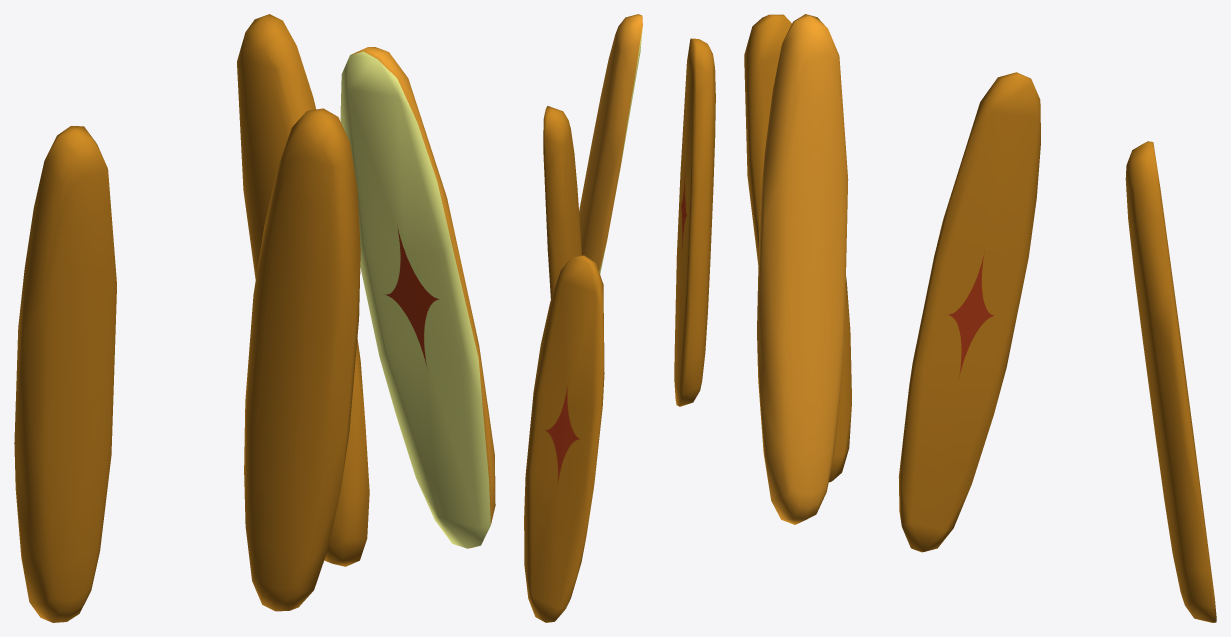
Rendered from yoot-animation-2-shorter.glb.
The picture shows the model from 3 angles, left to right: view 1: azimuth 30°, elevation 25°; view 2: azimuth 150°, elevation 25°; view 3: azimuth 270°, elevation 25°; orthographic projection. The views are drawn at different scales.
Visible parts, largest first — view 1: yoot1, yoot0, yoot2, yoot3; view 2: yoot2, yoot1, yoot0, yoot3; view 3: yoot3, yoot0, yoot2, yoot1.
Part boxes in pixels (bbox=[...]): yoot1: bbox=[244, 108, 360, 611]; yoot0: bbox=[340, 47, 495, 548]; yoot2: bbox=[14, 126, 116, 622]; yoot3: bbox=[237, 14, 369, 566]; yoot2: bbox=[524, 255, 604, 622]; yoot1: bbox=[674, 38, 715, 406]; yoot0: bbox=[579, 14, 642, 274]; yoot3: bbox=[543, 106, 581, 298]; yoot3: bbox=[898, 72, 1040, 552]; yoot0: bbox=[757, 14, 848, 524]; yoot2: bbox=[1125, 141, 1216, 622]; yoot1: bbox=[744, 14, 851, 482].
Size of the model in its own units: 6.55 by 17.02 by 11.29.
Materials: 4 (4 with a texture image).
